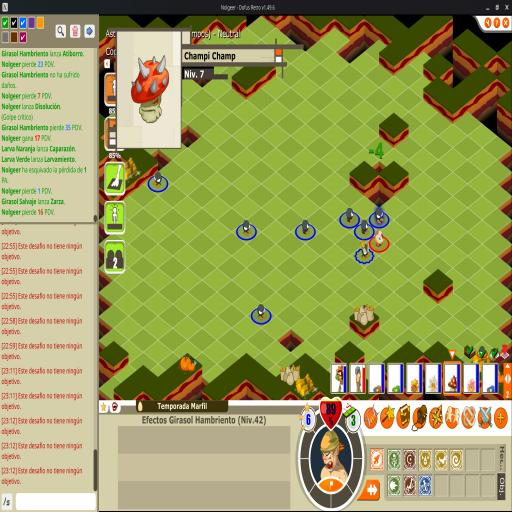Enemigos: (357, 238, 370, 260), (152, 171, 163, 189), (374, 207, 385, 224), (242, 219, 252, 237), (360, 219, 370, 237), (257, 303, 267, 321), (301, 219, 312, 235), (345, 207, 355, 223)
Personaje: (374, 229, 385, 247)
